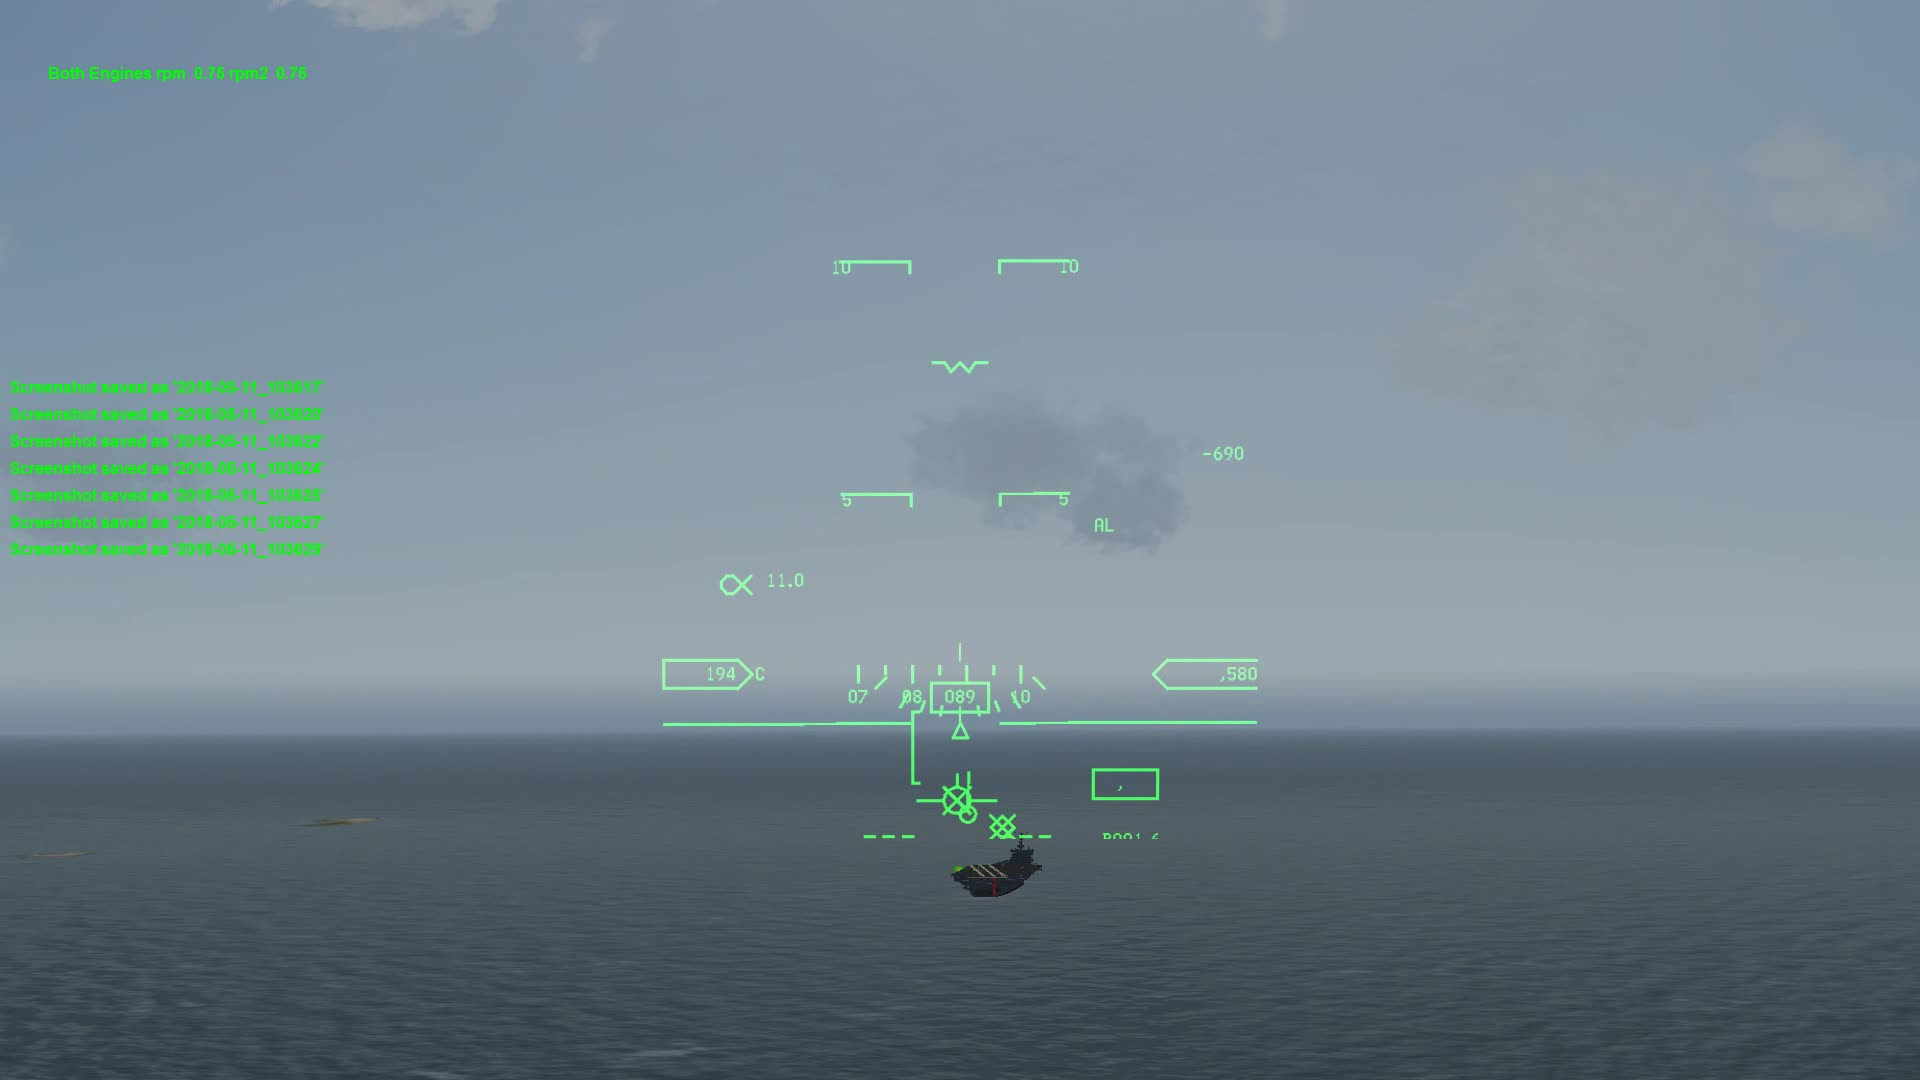speed vector: (922, 774, 1005, 814)
